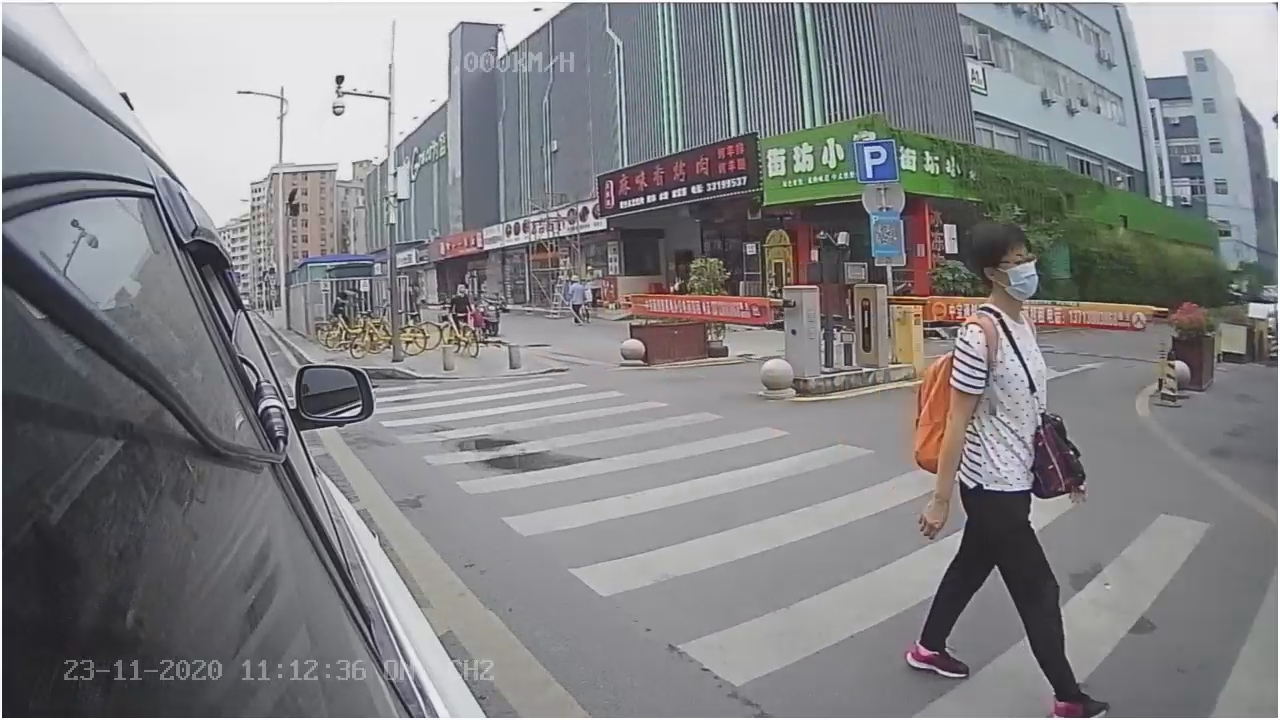person: (901, 226, 1102, 709)
